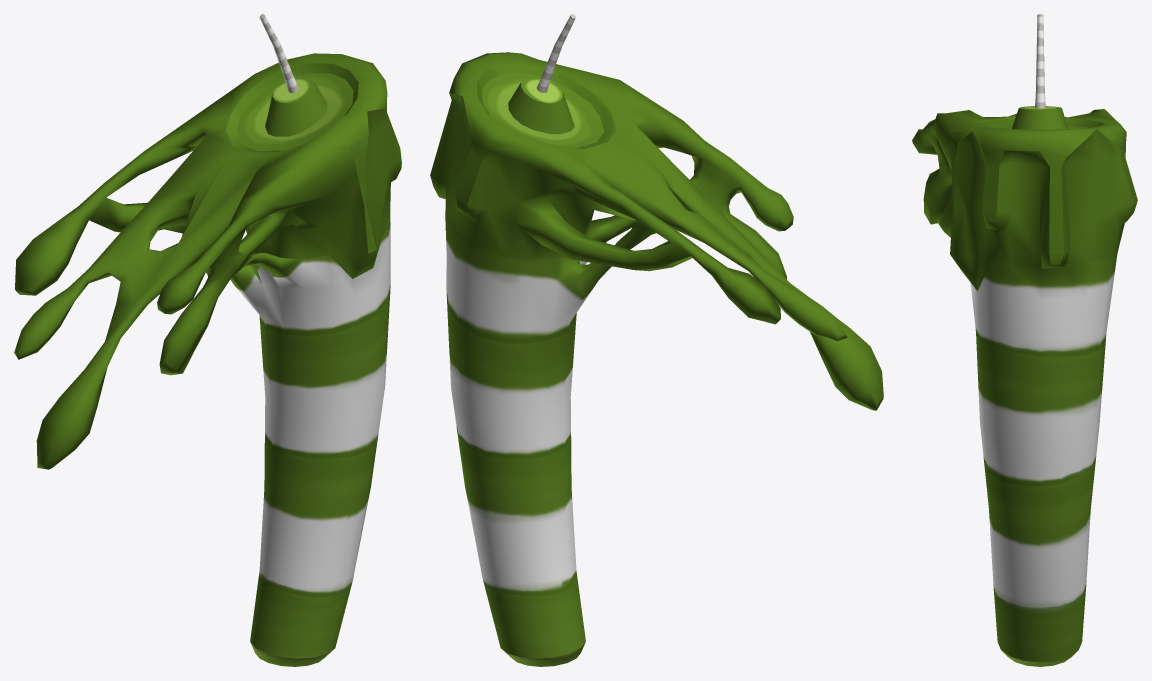
File: Candle_Blade.fbx
3 views of the same model, side by side, from view 1: azimuth 30°, elevation 25°; view 2: azimuth 150°, elevation 25°; view 3: azimuth 270°, elevation 25° (orthographic). The views are drawn at different scales.
Visible parts, largest first — view 1: Cylinder.003; view 2: Cylinder.003; view 3: Cylinder.003.
Boxes of the visible parts, box(x1,y1,x2,y2) form: Cylinder.003: box(14, 14, 401, 666); Cylinder.003: box(430, 14, 883, 666); Cylinder.003: box(912, 14, 1137, 666).
Size of the model in its own units: 572 by 890 by 291.
